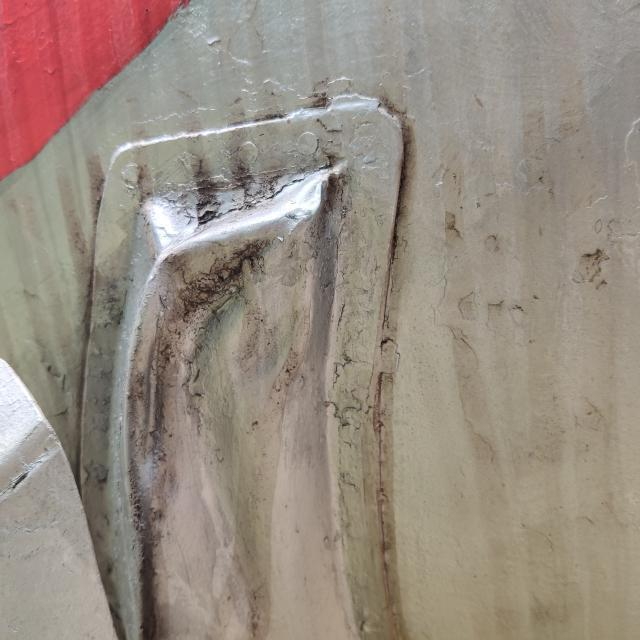Dent: (90, 138, 374, 640)
